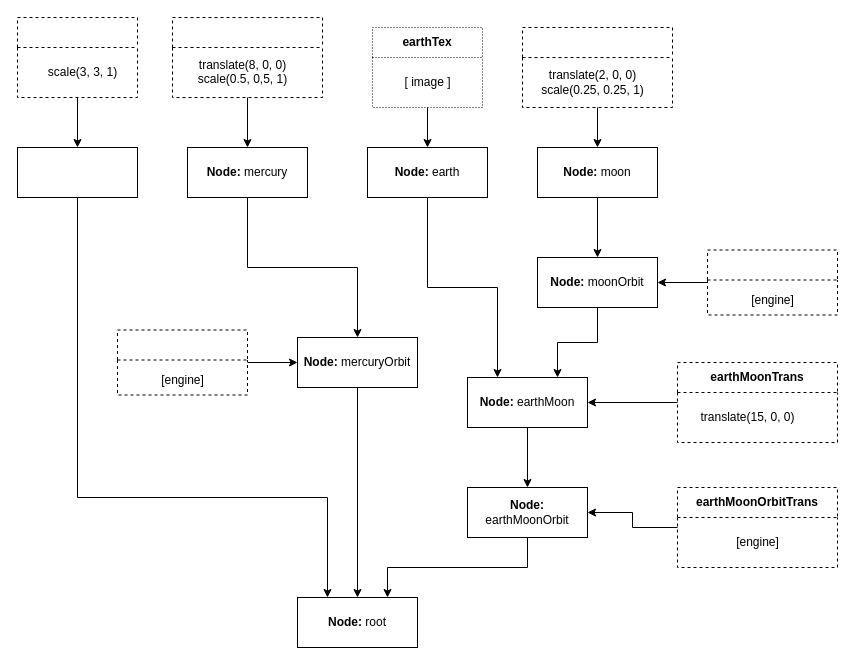
Some shapes in this 855 by 665 pixel diagram are drawn without their labels. Here are the shapes that lost their labels. From the top down, the box of each, then its label:
(16, 16, 138, 98): sunScale
(172, 16, 322, 98): mercuryTrans
(522, 26, 672, 108): moonTransScale
(16, 146, 138, 198): Node: sun
(706, 249, 838, 315): moonOrbitTrans
(116, 329, 248, 395): mercuryOrbitTrans
